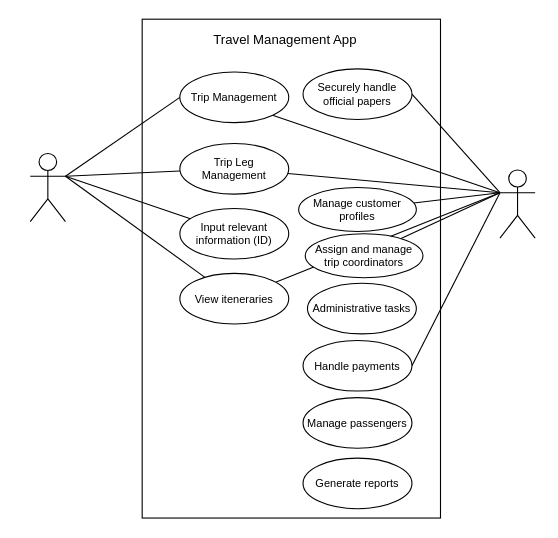
Some shapes in this 558 by 538 pixel diagram are drawn without their labels. The shapes that lost their labels are listed below. From the top down, each one's box as (x1, y1, x2, y2) in pixels, then its label:
(29, 152, 65, 222): Customer
(499, 169, 535, 238): Agency
